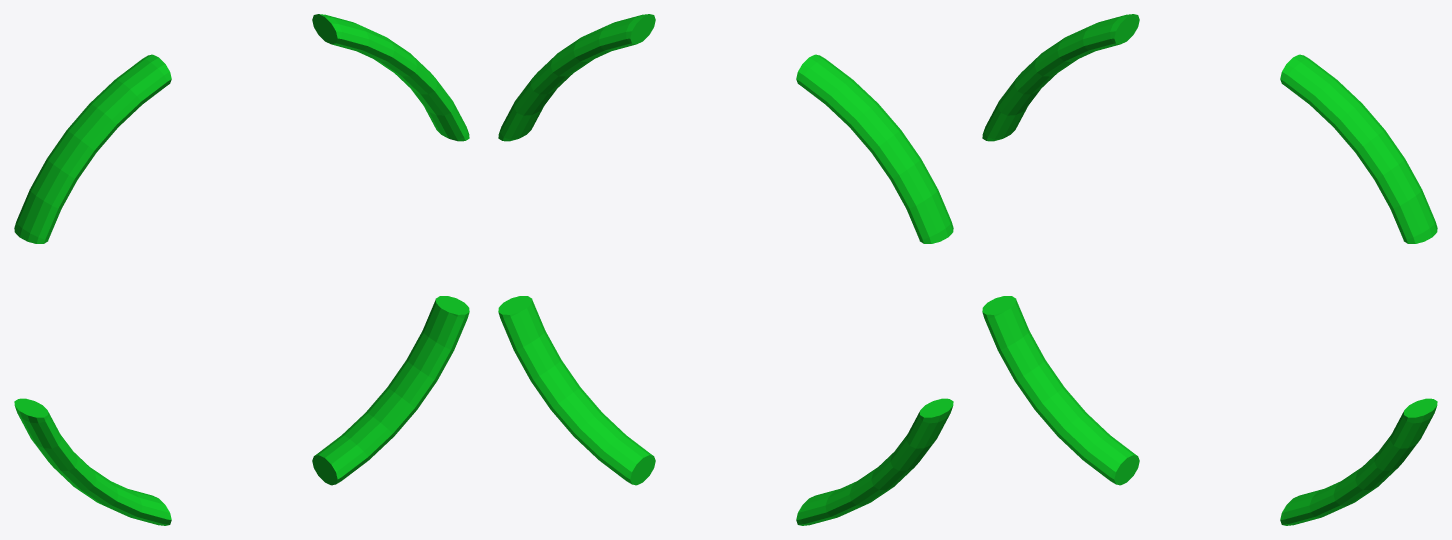
The model's file is Y-Axis-Rotation-Spinner.obj.
The picture shows the model from 3 angles, left to right: view 1: azimuth 30°, elevation 25°; view 2: azimuth 150°, elevation 25°; view 3: azimuth 330°, elevation 25°; orthographic projection.
Parts seen in each view (by area): view 1: Y-Axis-Rotation-spinner_Torus.004; view 2: Y-Axis-Rotation-spinner_Torus.004; view 3: Y-Axis-Rotation-spinner_Torus.004.
Part boxes in pixels (bbox=[...]): Y-Axis-Rotation-spinner_Torus.004: bbox=[14, 14, 469, 525]; Y-Axis-Rotation-spinner_Torus.004: bbox=[498, 14, 953, 525]; Y-Axis-Rotation-spinner_Torus.004: bbox=[982, 14, 1437, 525].
Bounding box in the file's own units: 5.47 × 5.47 × 0.544.
